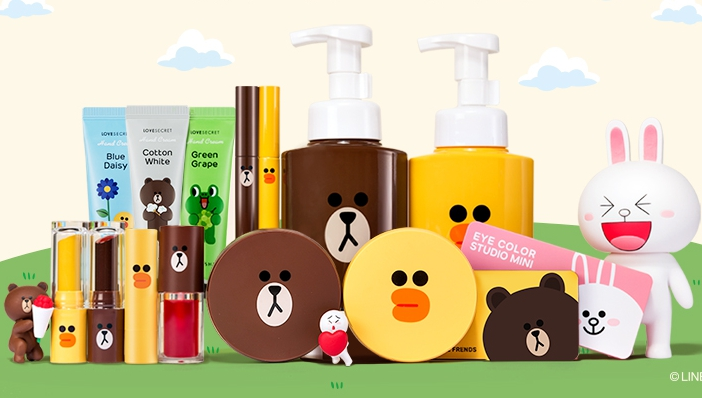line_brown: (206, 221, 346, 367), (477, 266, 586, 372), (3, 278, 54, 323), (135, 173, 180, 213)
